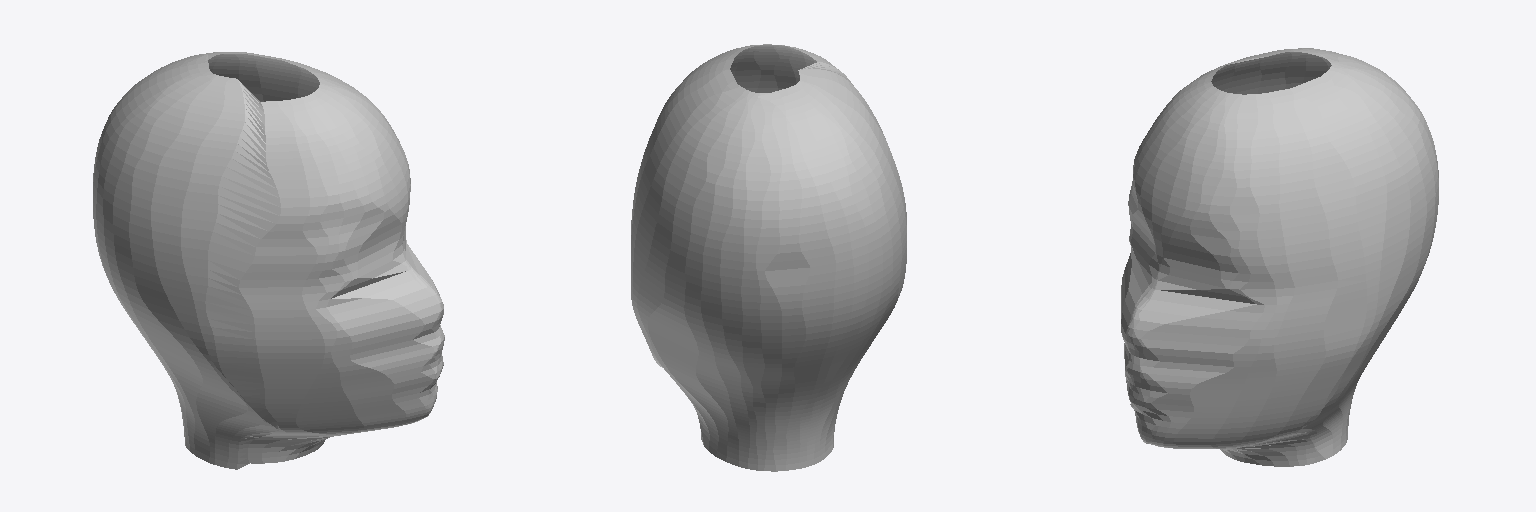
The model's file is head_shade.obj.
3 renders of one model, left to right at view 1: azimuth 30°, elevation 25°; view 2: azimuth 150°, elevation 25°; view 3: azimuth 270°, elevation 25°, orthographic.
Size of the model in its own units: 16.31 by 21.9 by 16.83.